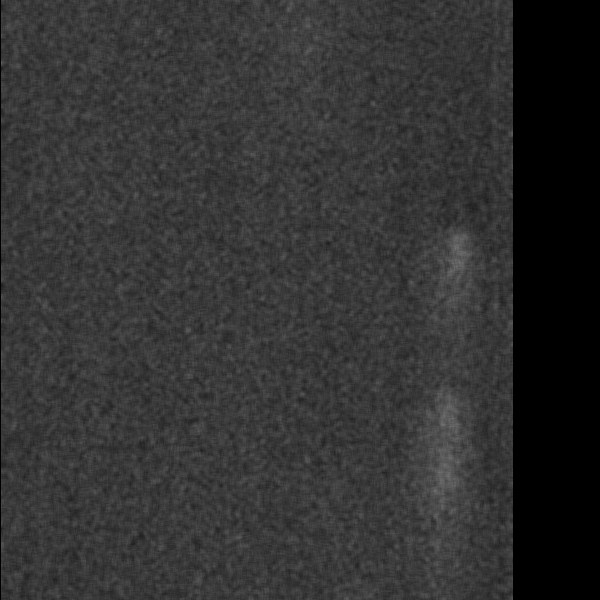spark: (443, 224, 467, 347)
